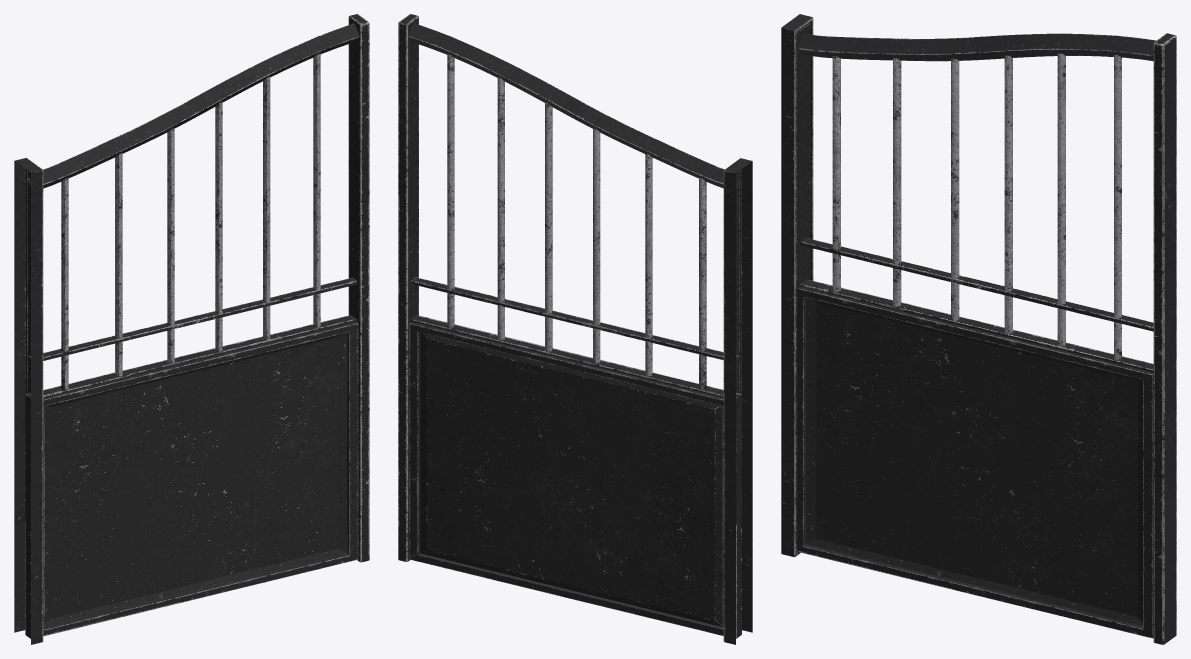
The model's file is campus_gate_left.glb.
3 views of the same model, side by side, from view 1: azimuth 30°, elevation 25°; view 2: azimuth 150°, elevation 25°; view 3: azimuth 330°, elevation 25° (orthographic). The views are drawn at different scales.
Parts seen in each view (by area): view 1: defaultMaterial (×2); view 2: defaultMaterial (×2); view 3: defaultMaterial (×2).
Boxes of the visible parts, box(x1,y1,x2,y2) form: defaultMaterial (×2): box(14, 14, 369, 644); defaultMaterial (×2): box(398, 14, 752, 644); defaultMaterial (×2): box(781, 14, 1176, 644).
Bounding box in the file's own units: 2.1 × 3.17 × 0.1791.
Materials: 2 (2 with a texture image).
